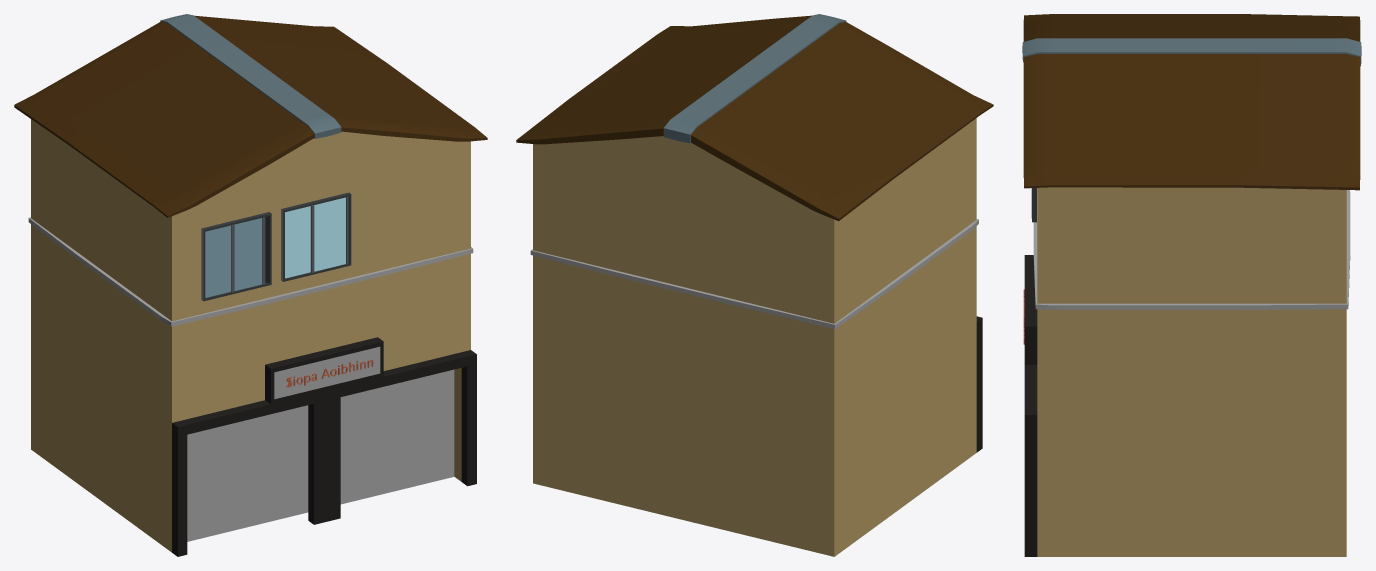
The model's file is building6.fbx.
The picture shows the model from 3 angles, left to right: view 1: azimuth 30°, elevation 25°; view 2: azimuth 150°, elevation 25°; view 3: azimuth 270°, elevation 25°; orthographic projection. The views are drawn at different scales.
Parts seen in each view (by area): view 1: pCube10, pCube11, pCube12; view 2: pCube10; view 3: pCube10.
Boxes of the visible parts, box(x1,y1,x2,y2) form: pCube10: box(14, 14, 487, 556); pCube11: box(201, 212, 271, 301); pCube12: box(281, 192, 351, 281); pCube10: box(516, 14, 993, 556); pCube10: box(1022, 14, 1361, 556).
Size of the model in its own units: 918 by 1082 by 768.
